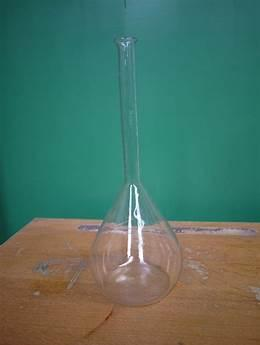Volumetric flask: (98, 21, 181, 309)
